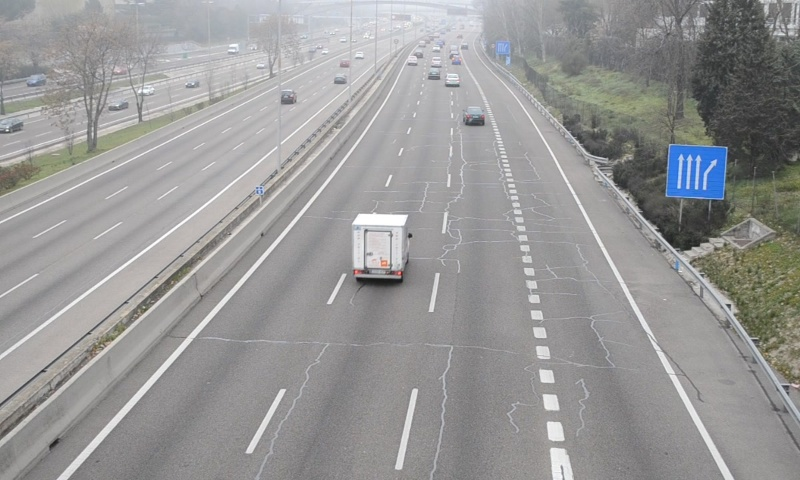car: (462, 105, 486, 126)
small-truck: (352, 213, 411, 280)
